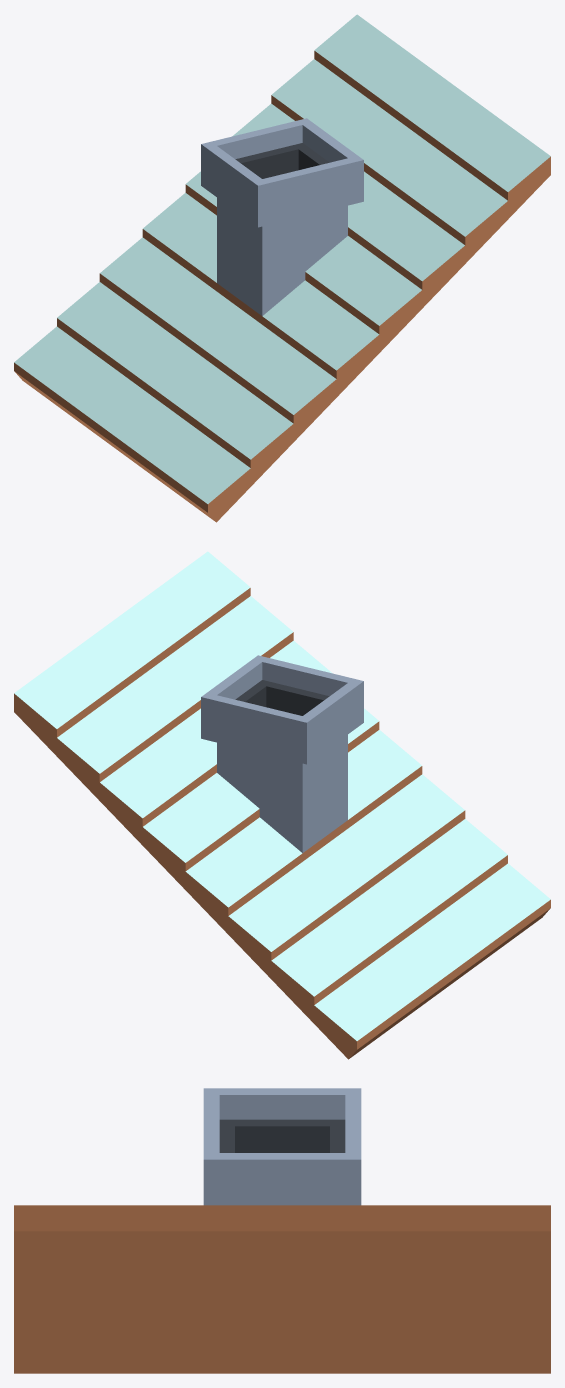
Rendered from cabinRoofChimney.fbx.
The picture shows the model from 3 angles, top to bottom: view 1: azimuth 30°, elevation 25°; view 2: azimuth 150°, elevation 25°; view 3: azimuth 270°, elevation 25°; orthographic projection. The views are drawn at different scales.
Parts seen in each view (by area): view 1: cabinRoofChimney; view 2: cabinRoofChimney; view 3: cabinRoofChimney.
Boxes of the visible parts, x1,y1,x2,y2 form: cabinRoofChimney: (14, 14, 550, 522); cabinRoofChimney: (14, 551, 550, 1059); cabinRoofChimney: (14, 1088, 550, 1373).
Size of the model in its own units: 12.05 by 9.56 by 11.8.
